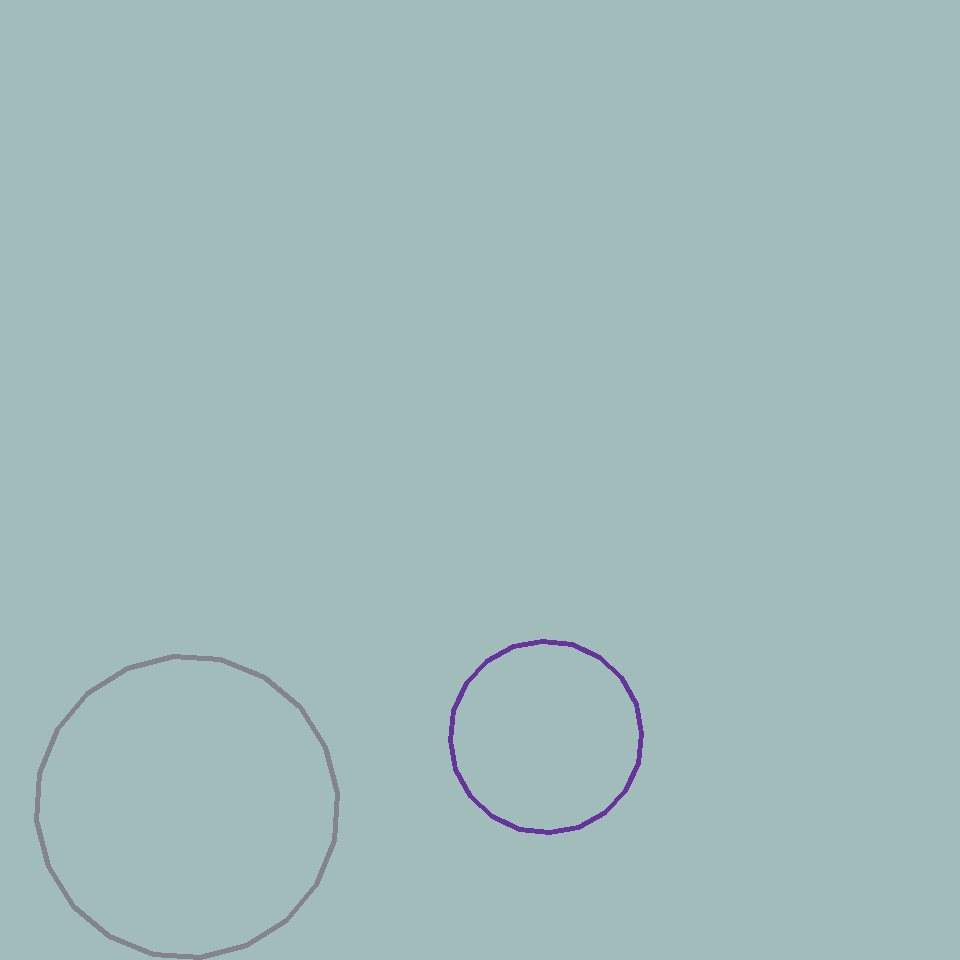triangle: (36, 656, 338, 957), (450, 642, 642, 832)
